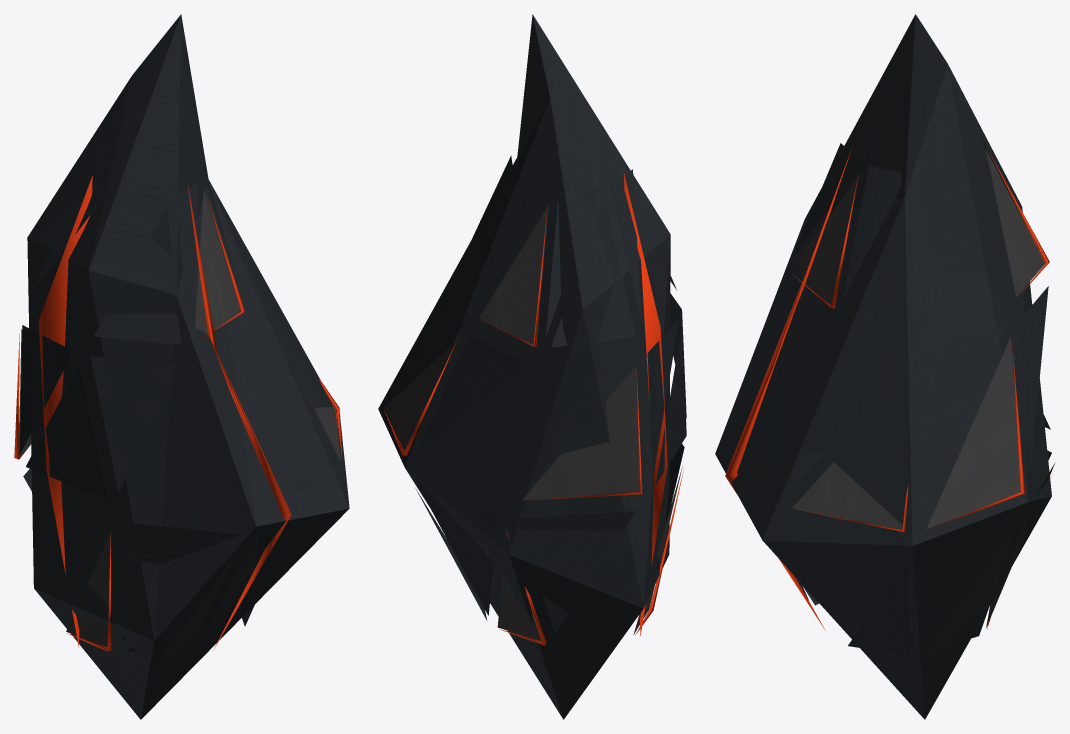
File: SM_meteor_shard_LOD2.fbx
The picture shows the model from 3 angles, left to right: view 1: azimuth 30°, elevation 25°; view 2: azimuth 150°, elevation 25°; view 3: azimuth 270°, elevation 25°; orthographic projection. The views are drawn at different scales.
Visible parts, largest first — view 1: SM_meteor_shard_LOD2; view 2: SM_meteor_shard_LOD2; view 3: SM_meteor_shard_LOD2.
Part boxes in pixels (<box>): SM_meteor_shard_LOD2: <box>14,14,349,719</box>; SM_meteor_shard_LOD2: <box>378,14,686,719</box>; SM_meteor_shard_LOD2: <box>715,14,1055,719</box>.
Bounding box in the file's own units: 0.3774 × 0.3608 × 0.8459.
